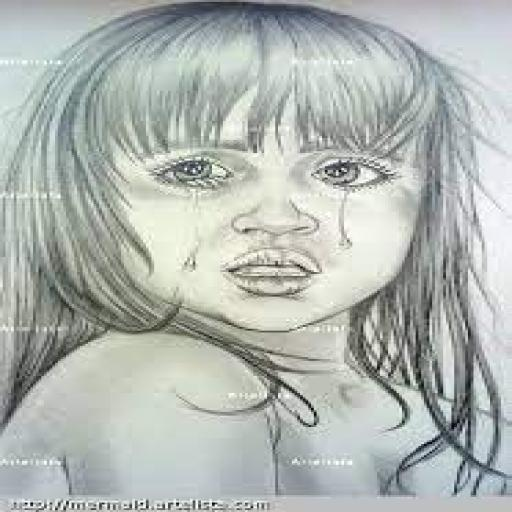person: (4, 0, 512, 494)
